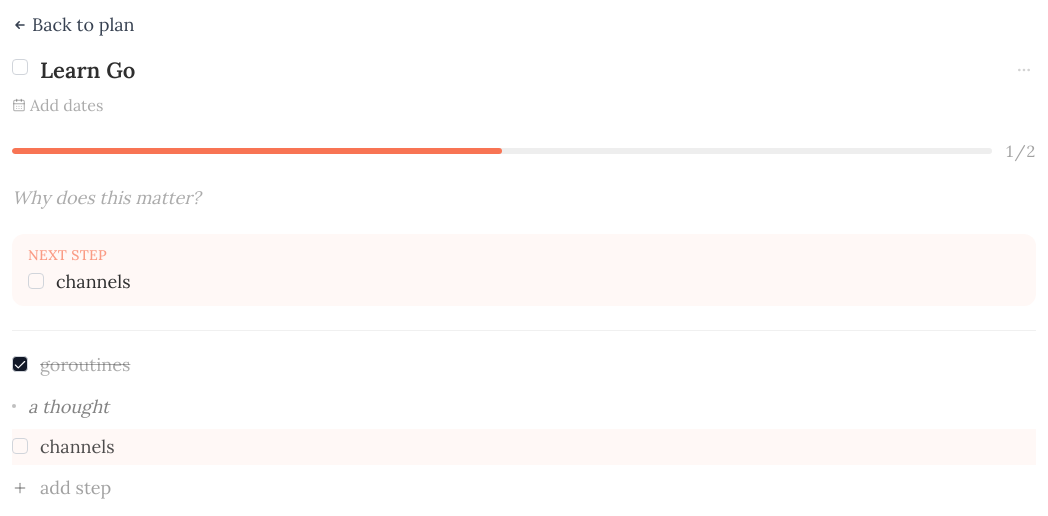
MilestonePage title, dates, close and menu › should offer exactly Rename, Dates, Duplicate, Archive and Delete in its menu (R17, G6; FS-F6AEE R14)
Click the button named "Actions for Learn Go": (1024, 70) [1012,58,1036,82]
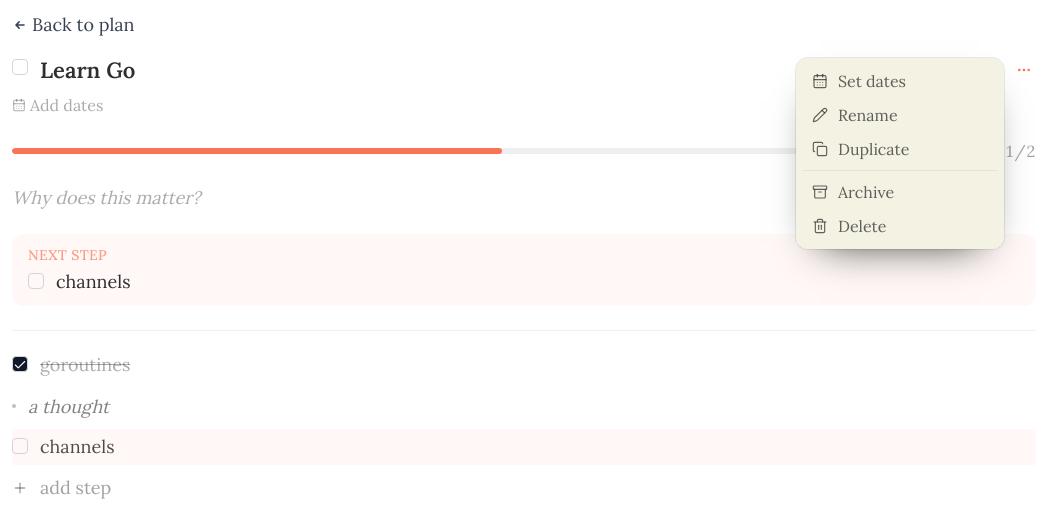
Now the menu items read "Set dates", "Rename", "Duplicate", "Archive", "Delete", in this order, box [802,64,998,98]; [802,98,998,132]; [802,132,998,166]; [802,175,998,209]; [802,209,998,243]
